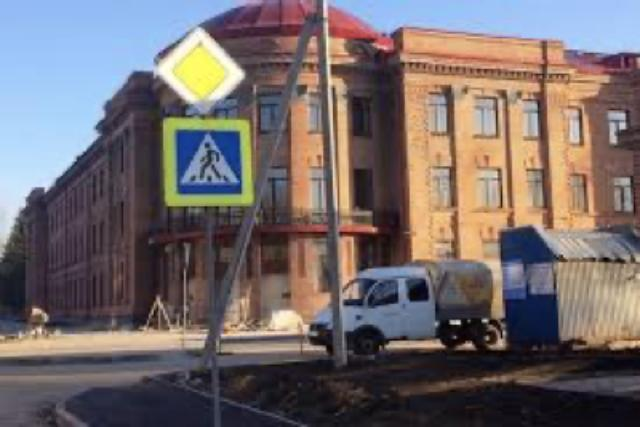crosswalk-sign: (161, 117, 255, 209)
